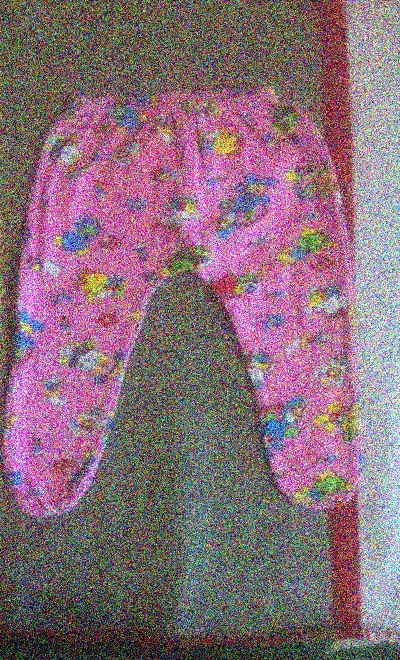Pants: (0, 59, 389, 559)
